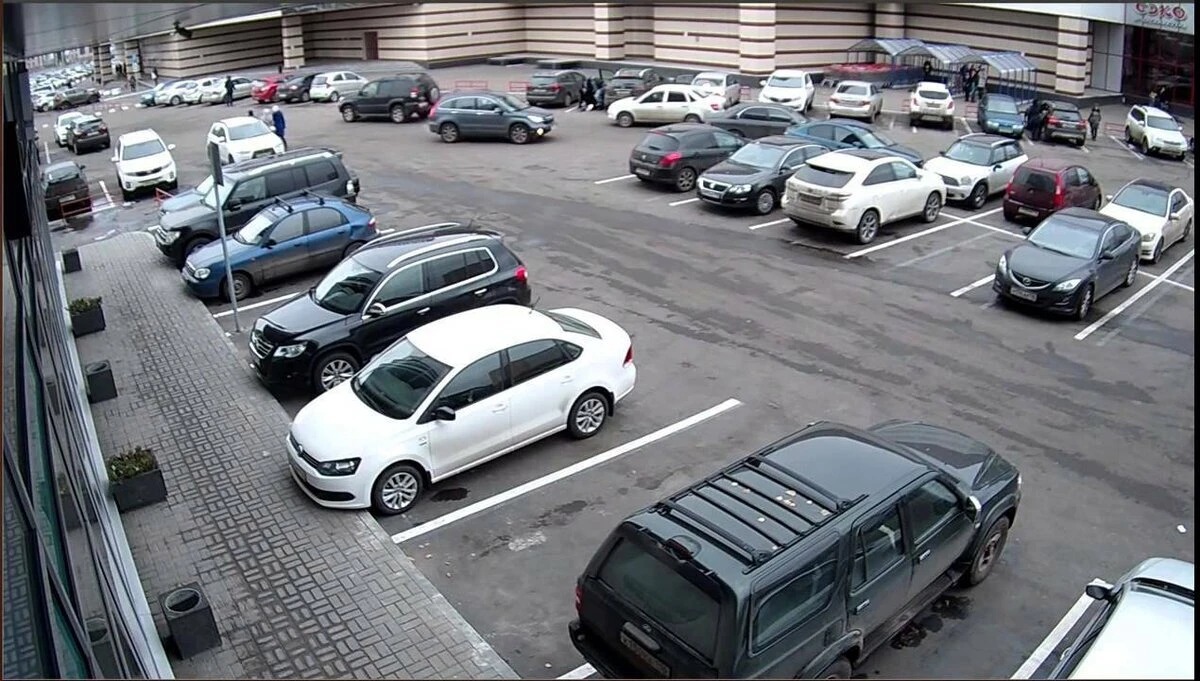Car: (568, 421, 1022, 678), (286, 305, 636, 516), (247, 223, 532, 394), (152, 147, 361, 264), (181, 195, 379, 300), (1045, 557, 1195, 678), (993, 208, 1141, 320), (781, 150, 946, 245), (696, 136, 829, 215), (628, 123, 746, 192), (923, 134, 1028, 209), (1101, 179, 1193, 263), (428, 91, 555, 145), (1002, 158, 1104, 223), (159, 156, 270, 215), (785, 118, 923, 165), (338, 74, 440, 124), (607, 84, 723, 127), (112, 129, 178, 199), (206, 116, 286, 166), (708, 103, 806, 140), (1125, 105, 1188, 160), (1024, 96, 1089, 147), (41, 161, 91, 216), (599, 66, 665, 107), (522, 69, 589, 108), (757, 69, 815, 114), (826, 80, 884, 123), (909, 82, 956, 129), (976, 95, 1024, 139), (309, 69, 369, 103), (690, 70, 742, 107), (66, 115, 111, 155), (202, 77, 258, 103), (275, 71, 318, 103), (251, 75, 292, 104), (140, 79, 181, 107), (183, 77, 223, 105), (154, 79, 195, 106), (53, 112, 82, 148), (55, 88, 100, 109), (32, 89, 57, 112)
